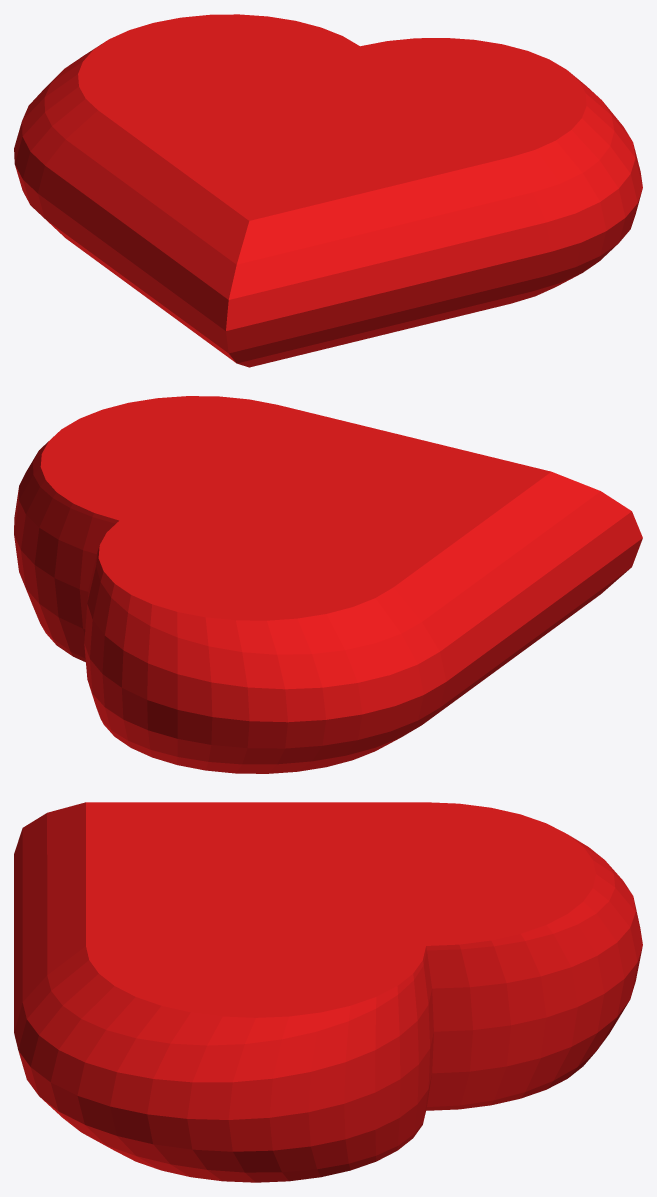
File: Heart.fbx
3 views of the same model, one above another, from view 1: azimuth 30°, elevation 25°; view 2: azimuth 150°, elevation 25°; view 3: azimuth 270°, elevation 25° (orthographic). The views are drawn at different scales.
Parts seen in each view (by area): view 1: Cube; view 2: Cube; view 3: Cube.
Boxes of the visible parts, x1,y1,x2,y2 form: Cube: (14,14,642,367); Cube: (14,396,642,773); Cube: (14,802,642,1182).
Size of the model in its own units: 264 by 76.28 by 264.
